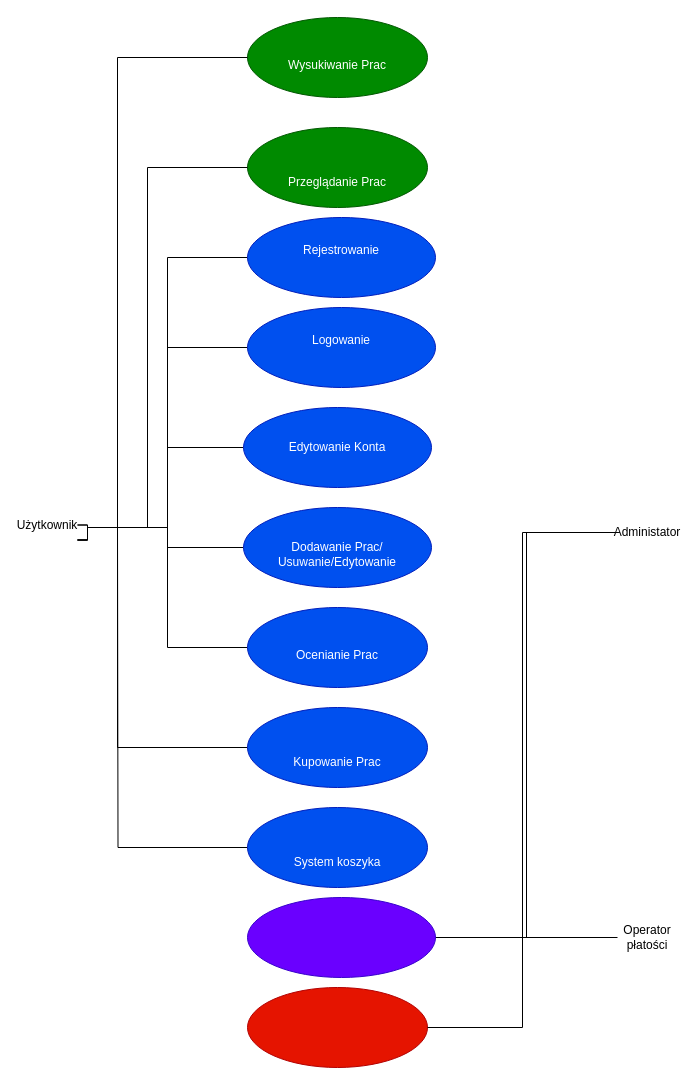
This 698x1085 diagram has some shape labels left out. The shapes that lost their labels are listed below. From the top down, each one's centre as x and y in pixels, then its label:
At point (341, 937): "Przetwarzanie płatonści".
At point (337, 1027): "Zdejmowanie Pracy".
